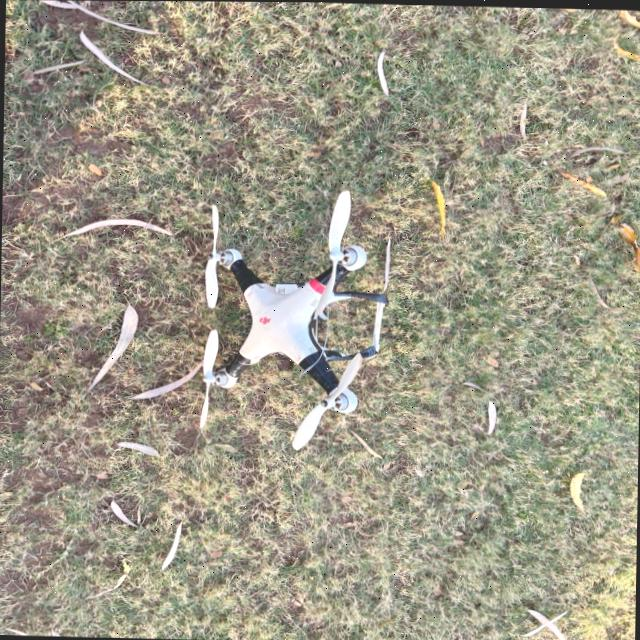drone: (130, 168, 471, 504)
